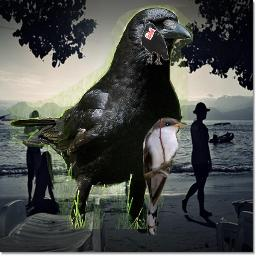Crow: (10, 5, 193, 229), (141, 23, 169, 65)
Cuckoo: (142, 117, 187, 235)
